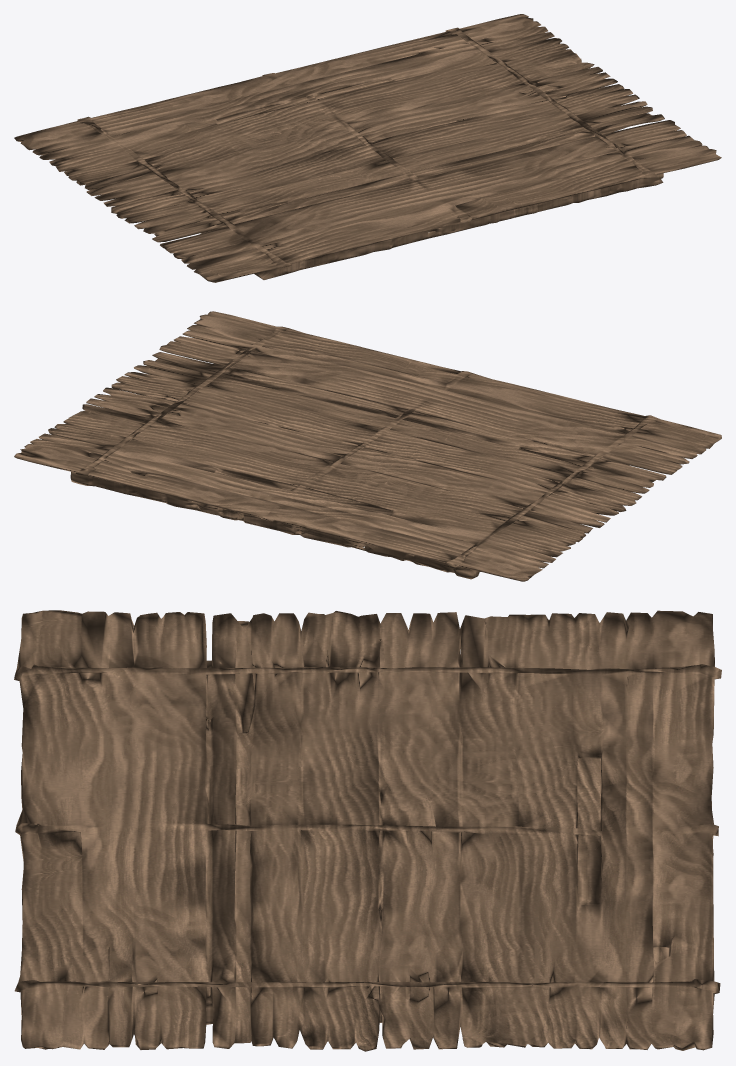
The model's file is MaintenanceOrderRefined.glb.
3 views of the same model, one above another, from view 1: azimuth 30°, elevation 25°; view 2: azimuth 150°, elevation 25°; view 3: azimuth 270°, elevation 25° (orthographic). The views are drawn at different scales.
Visible parts, largest first — view 1: MaintenanceOrderRefined; view 2: MaintenanceOrderRefined; view 3: MaintenanceOrderRefined.
Part boxes in pixels (box(x1,y1,x2,y2)): MaintenanceOrderRefined: box(14, 14, 721, 282); MaintenanceOrderRefined: box(14, 311, 721, 581); MaintenanceOrderRefined: box(14, 610, 721, 1051).
Bounding box in the file's own units: 0.5 × 0.016 × 0.34.
1 material, 1 textured.
